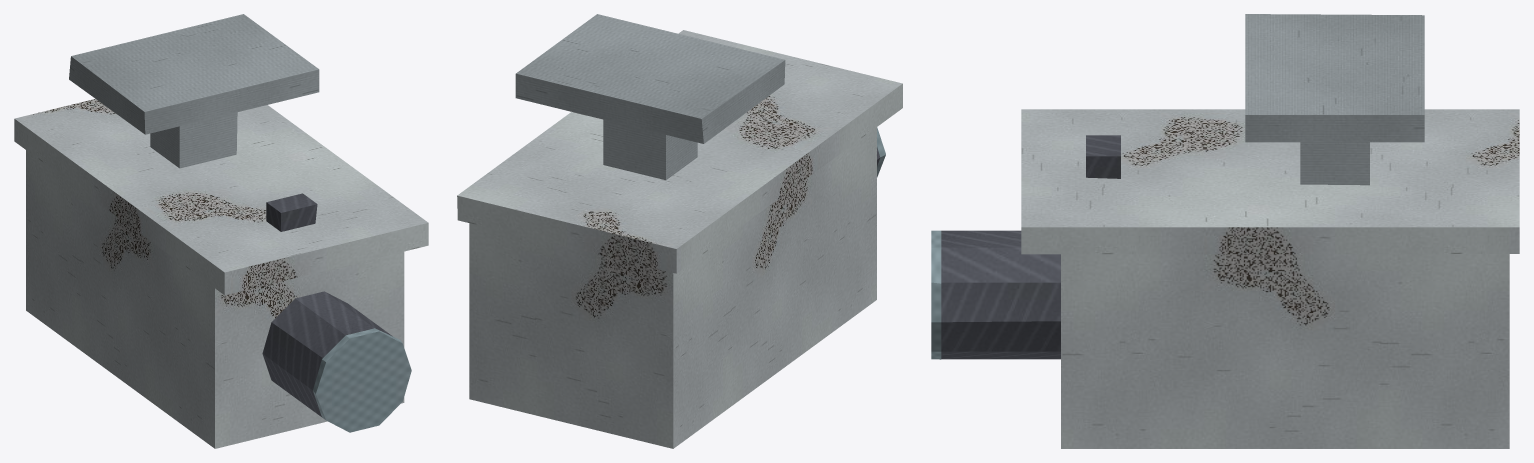
File: camera2_v4.glb
The picture shows the model from 3 angles, left to right: view 1: azimuth 30°, elevation 25°; view 2: azimuth 150°, elevation 25°; view 3: azimuth 270°, elevation 25°; orthographic projection. The views are drawn at different scales.
Parts seen in each view (by area): view 1: Variant_camera2_4; view 2: Variant_camera2_4; view 3: Variant_camera2_4.
Boxes of the visible parts, x1,y1,x2,y2 form: Variant_camera2_4: [14, 14, 428, 448]; Variant_camera2_4: [457, 14, 902, 448]; Variant_camera2_4: [931, 14, 1519, 448].
Size of the model in its own units: 0.112 by 0.146 by 0.236.
Materials: 4 (4 with a texture image).
